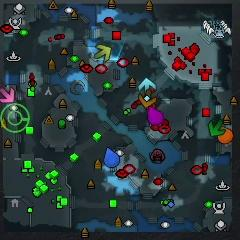Other: (0, 103, 30, 133)
p1: (104, 148, 120, 167)
p3: (148, 105, 164, 126)
p5: (217, 125, 235, 143)
x1: (0, 86, 15, 104)
x2: (95, 45, 112, 63)
x3: (137, 78, 158, 97)
x4: (208, 118, 224, 137)
x5: (141, 89, 158, 108)
